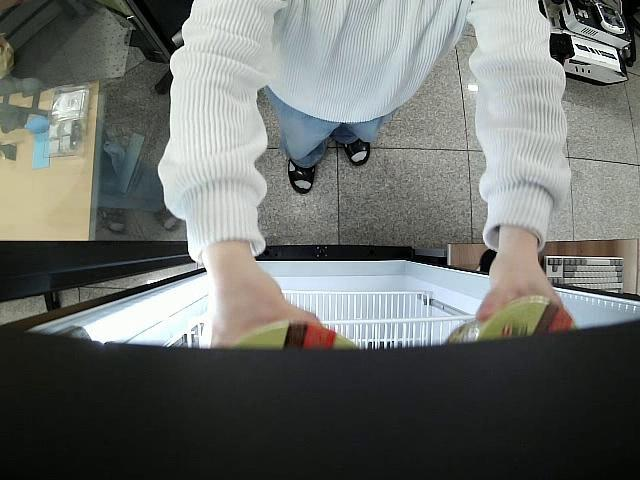03_chapagetti_L: (439, 293, 580, 350), (216, 316, 364, 358)
